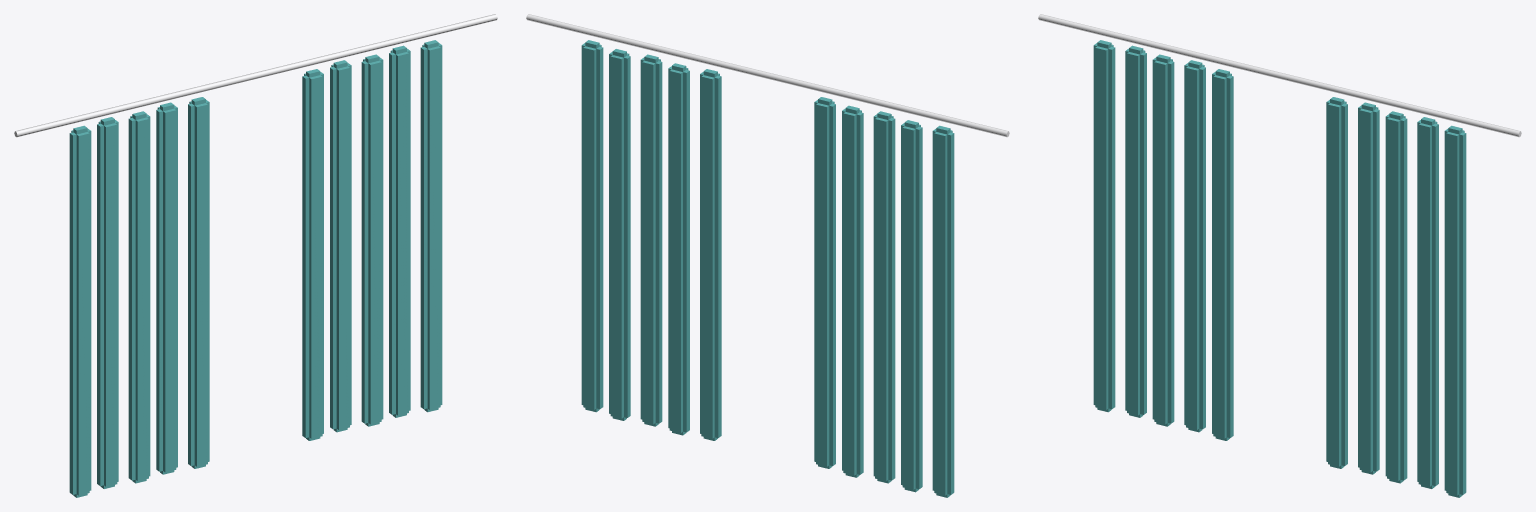
File: curtains.glb
The picture shows the model from 3 angles, left to right: view 1: azimuth 30°, elevation 25°; view 2: azimuth 150°, elevation 25°; view 3: azimuth 330°, elevation 25°; orthographic projection.
Visible parts, largest first — view 1: curtains; view 2: curtains; view 3: curtains.
Boxes of the visible parts, x1,y1,x2,y2 form: curtains: [14, 14, 497, 497]; curtains: [526, 14, 1009, 497]; curtains: [1038, 14, 1521, 497].
Bounding box in the file's own units: 2.6 × 1.96 × 0.09.
